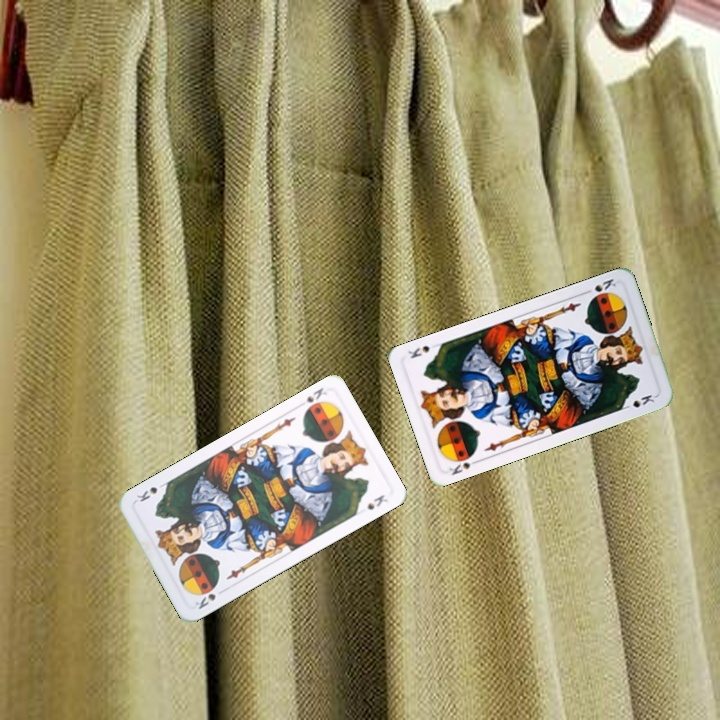SK: (445, 450, 482, 478), (191, 585, 228, 612), (580, 274, 619, 297), (302, 383, 329, 405)
